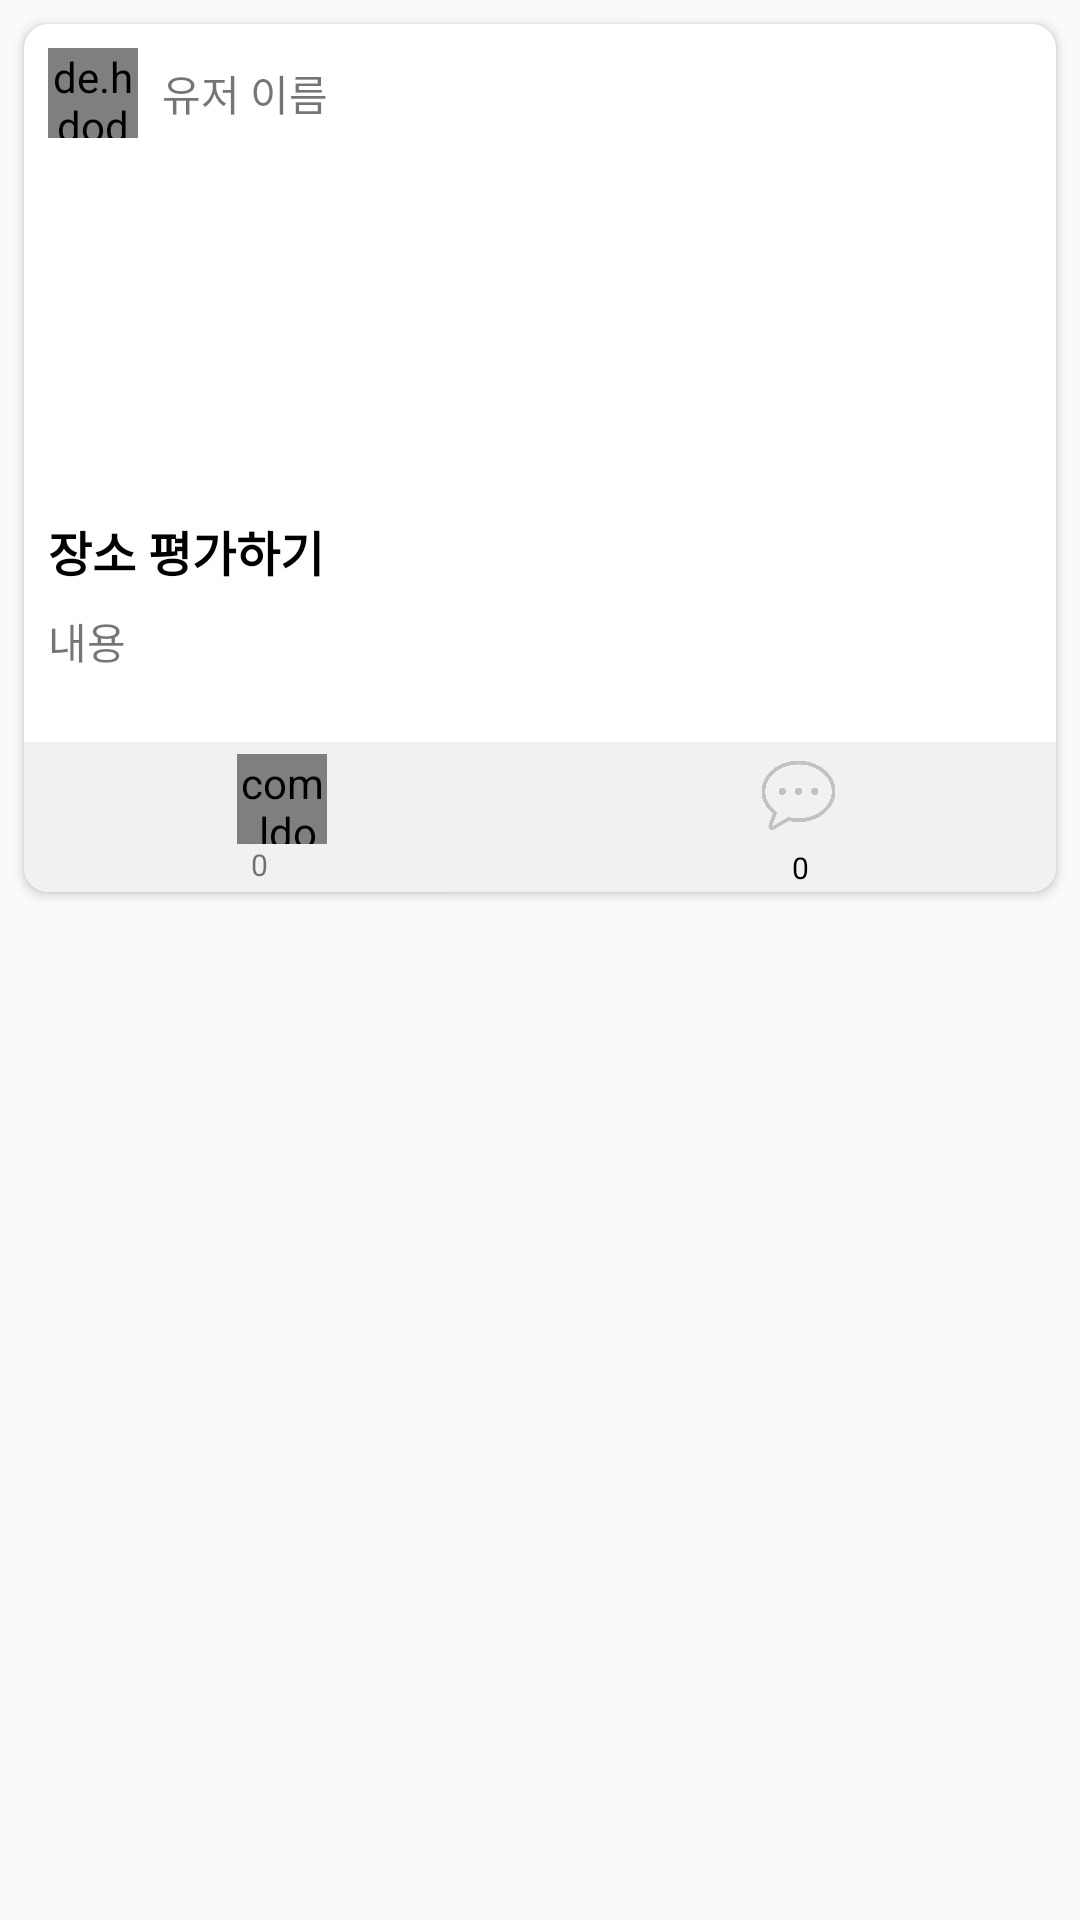

Named icons in this screenshot (1080w x 1920h) and their centers, (x=x, y=y):
comment: (x=798, y=795)
